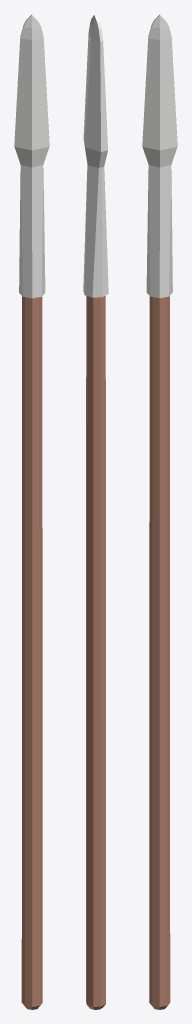
File: ankers-low-poly-medieval-weapons--javelin.glb
The picture shows the model from 3 angles, left to right: view 1: azimuth 90°, elevation 25°; view 2: azimuth 210°, elevation 25°; view 3: azimuth 270°, elevation 25°; orthographic projection.
Visible parts, largest first — view 1: Javelin; view 2: Javelin; view 3: Javelin.
Boxes of the visible parts, box(x1,y1,x2,y2) form: Javelin: box(14, 14, 49, 1009); Javelin: box(83, 14, 108, 1009); Javelin: box(142, 14, 177, 1009).
Bounding box in the file's own units: 0.0458 × 1.9 × 0.061.
